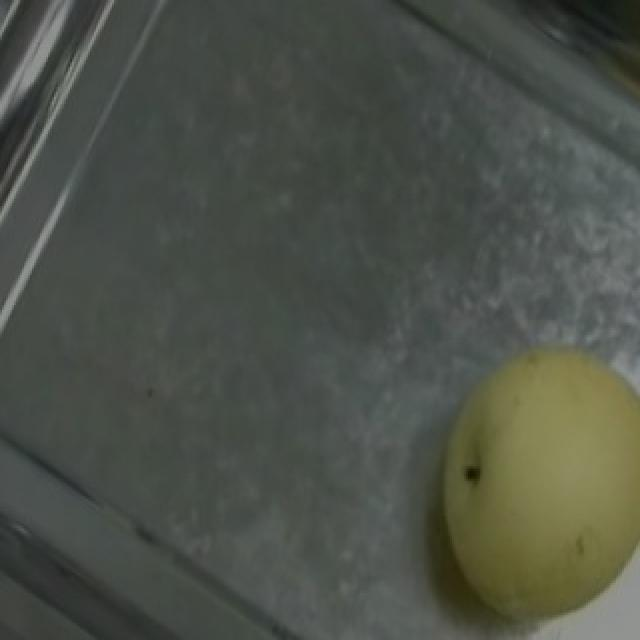Fruit: (394, 315, 640, 638)
